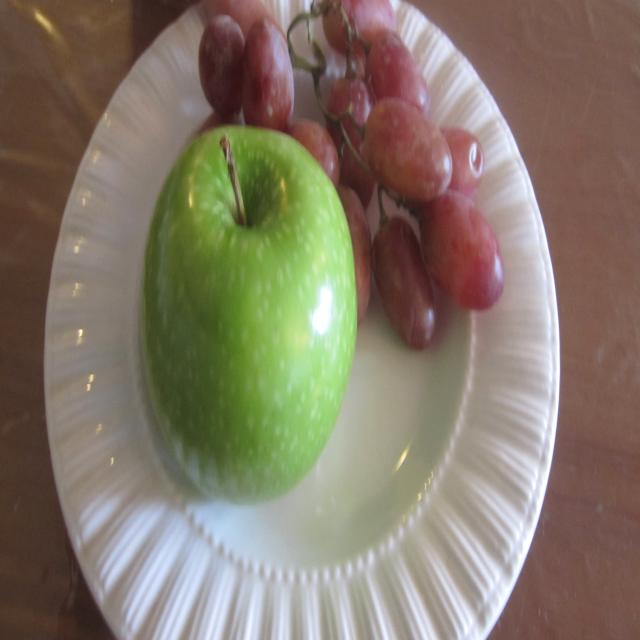apple: (82, 113, 307, 509)
grape: (311, 0, 640, 339)
